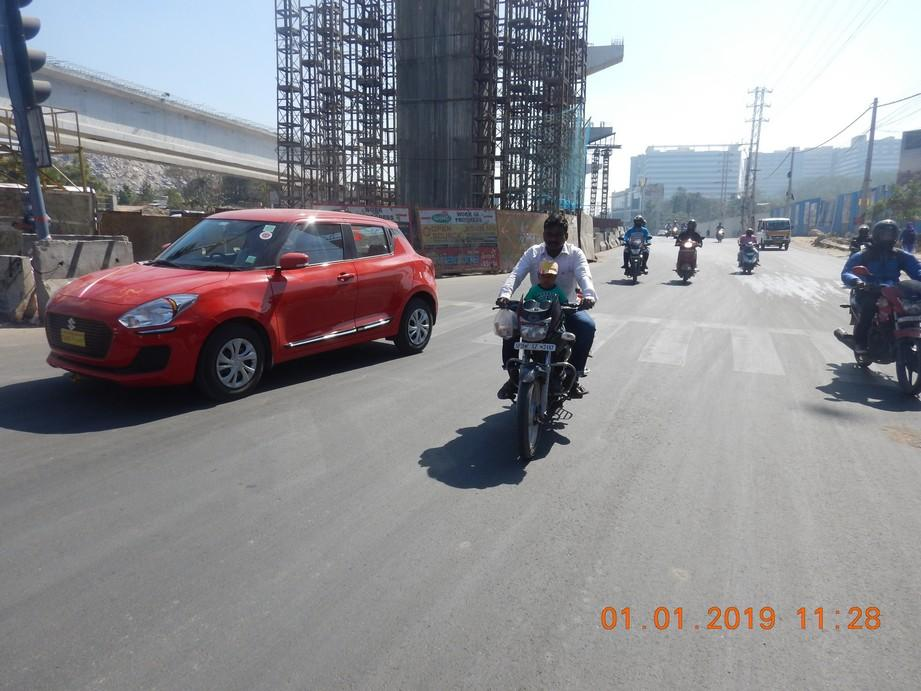plate: (513, 340, 557, 353)
